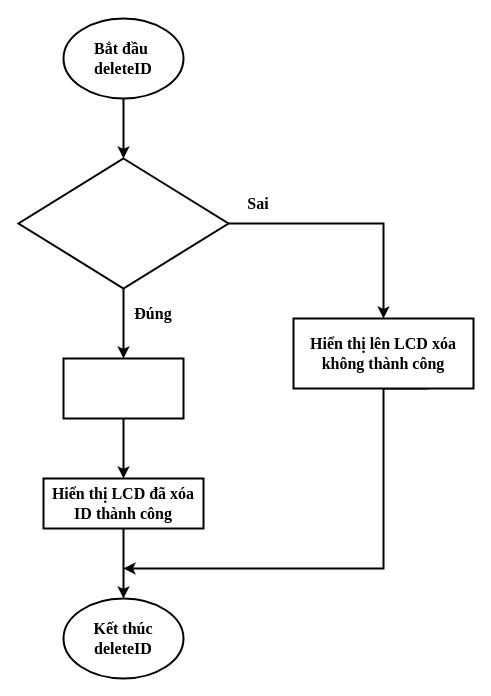
Image size: 491x696. Some labels were removed from this diagram. Each missing label, with the centre of its shape:
"Ghi đè 0 vào vị trí ID được tìm thấy" belongs at [123,388].
"ID tồn tại trong bộ nhớ" belongs at [123,223].
